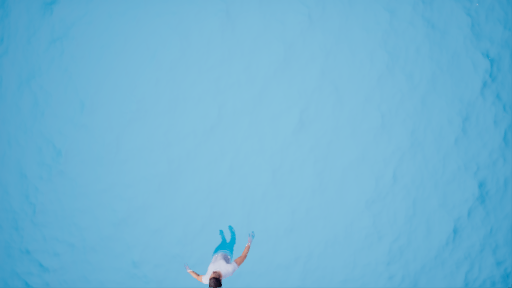person: (181, 220, 266, 288)
